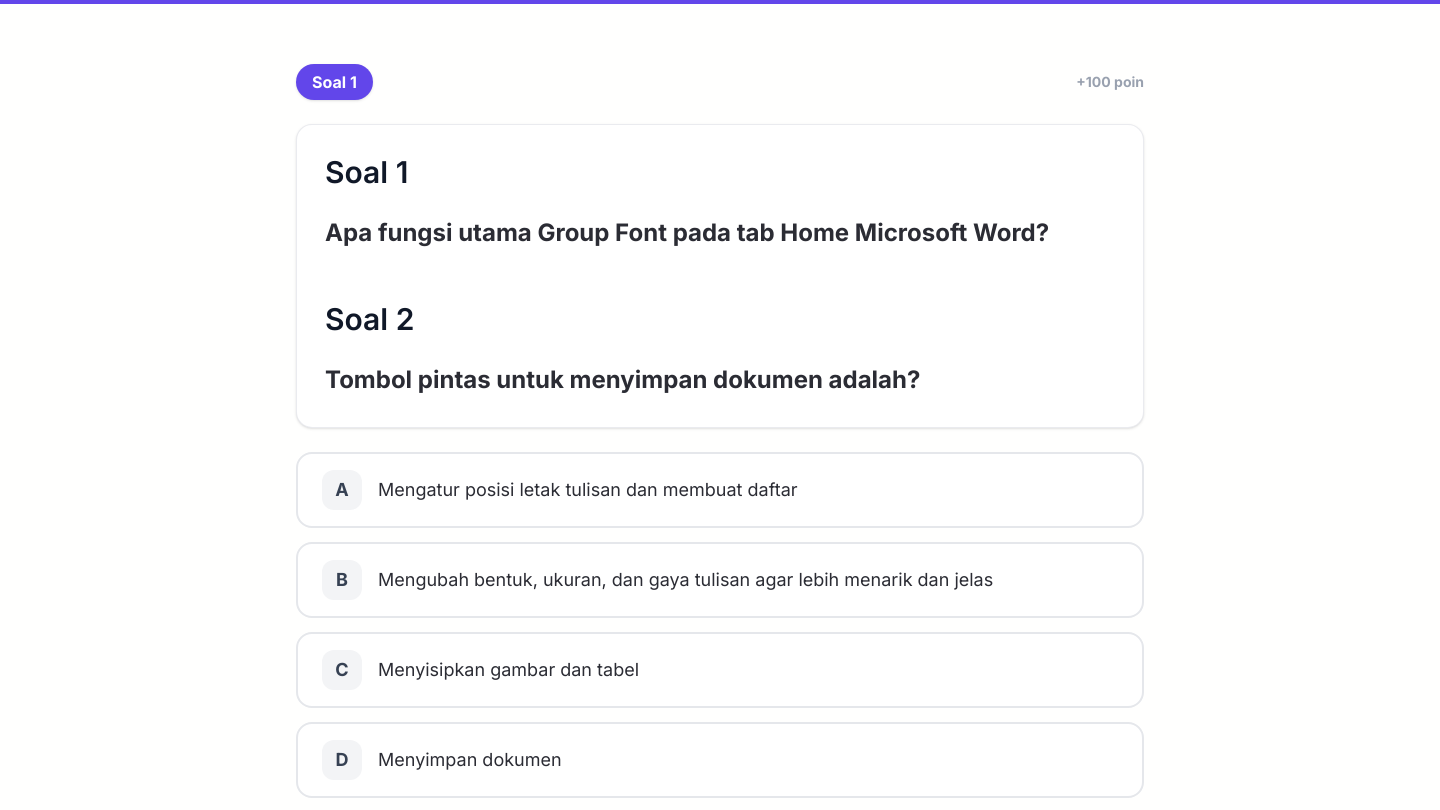
Test: QuizView › renders quiz questions and lets user select answer
Check: the text "Apa fungsi utama Group Font pada tab Home Microsoft Word?" is shown, box [325, 213, 1115, 252]
Click the text "Mengubah bentuk, ukuran, dan gaya tulisan agar lebih menarik dan jelas". click: x=686, y=580
box: [378, 568, 993, 592]
(page scrolled)
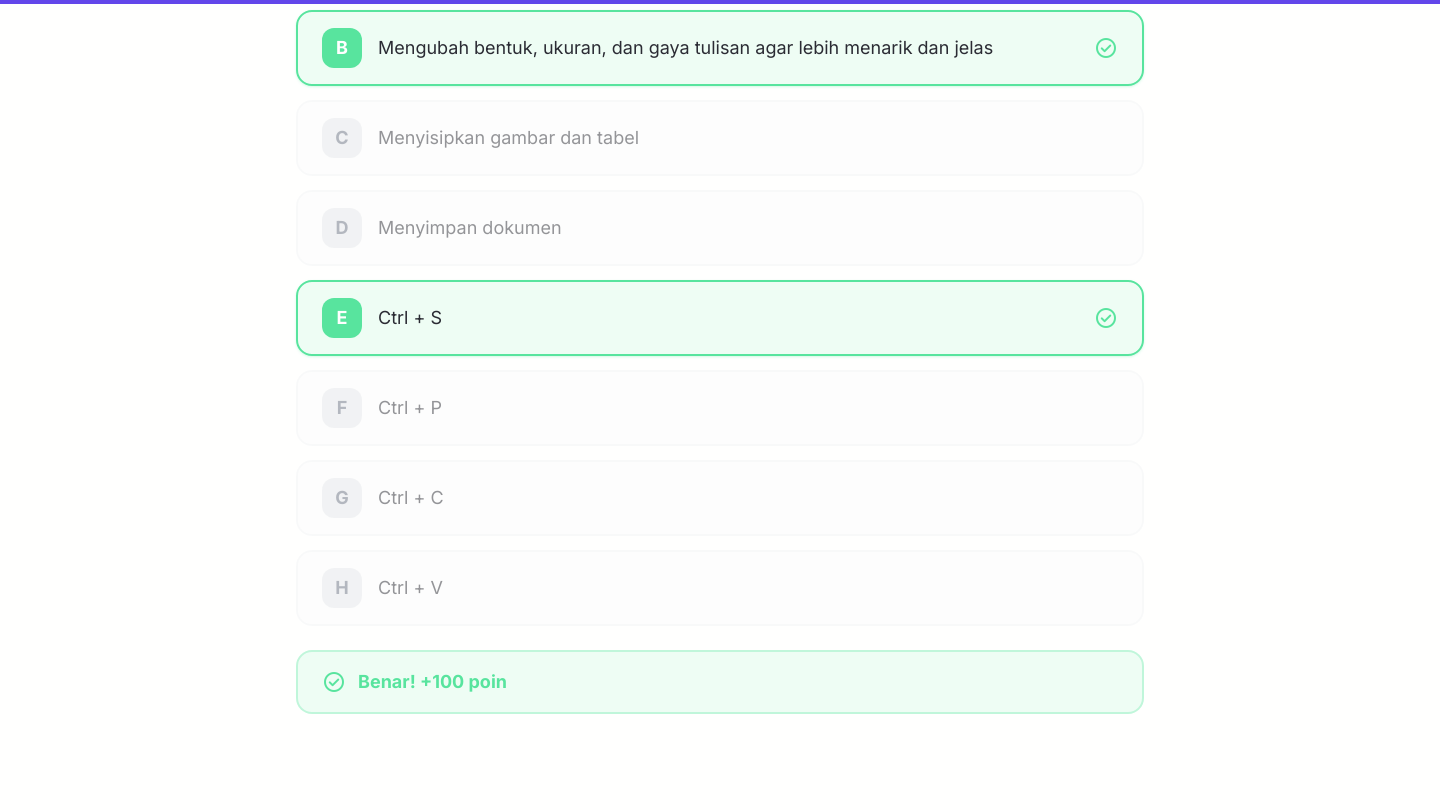
Check: the text "Benar! +100 poin" is shown, box [358, 668, 507, 696]
